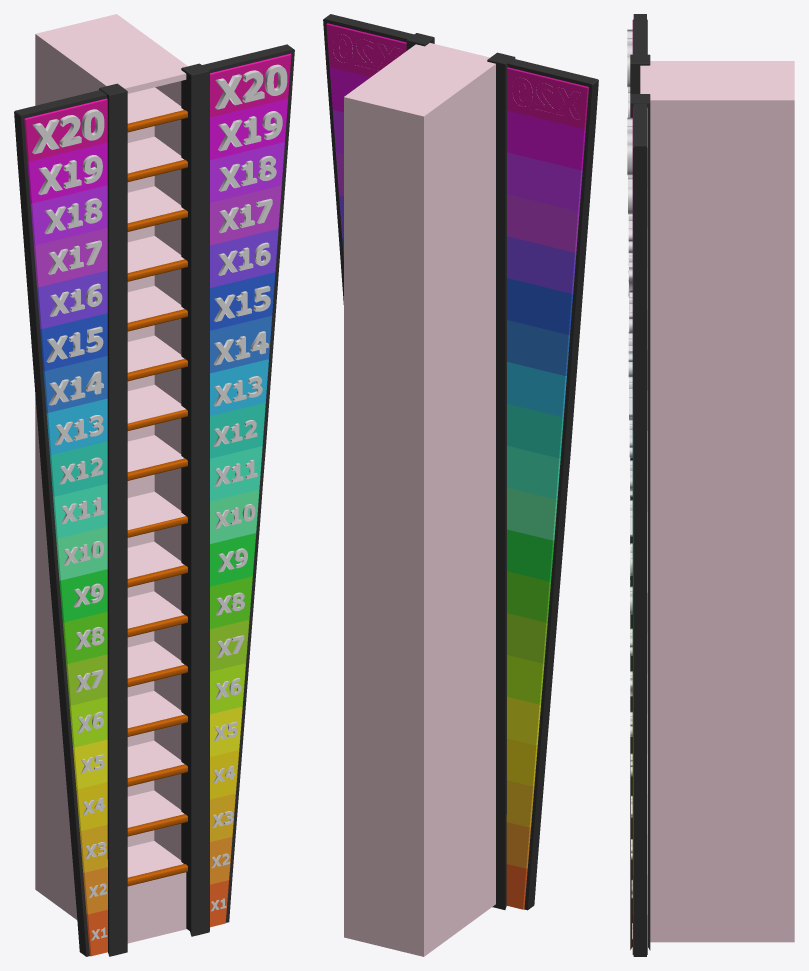
Rendered from BonusPlatform.fbx.
3 renders of one model, left to right at view 1: azimuth 30°, elevation 25°; view 2: azimuth 150°, elevation 25°; view 3: azimuth 270°, elevation 25°, orthographic.
Parts seen in each view (by area): view 1: Cube.003, Xtext; view 2: Cube.003; view 3: Cube.003, Xtext.
Part boxes in pixels (bbox=[...]): Cube.003: bbox=[14, 14, 294, 956]; Xtext: bbox=[32, 64, 287, 940]; Cube.003: bbox=[323, 14, 598, 956]; Cube.003: bbox=[630, 14, 794, 956]; Xtext: bbox=[627, 29, 632, 939].
Size of the model in its own units: 403 by 1211 by 217.
